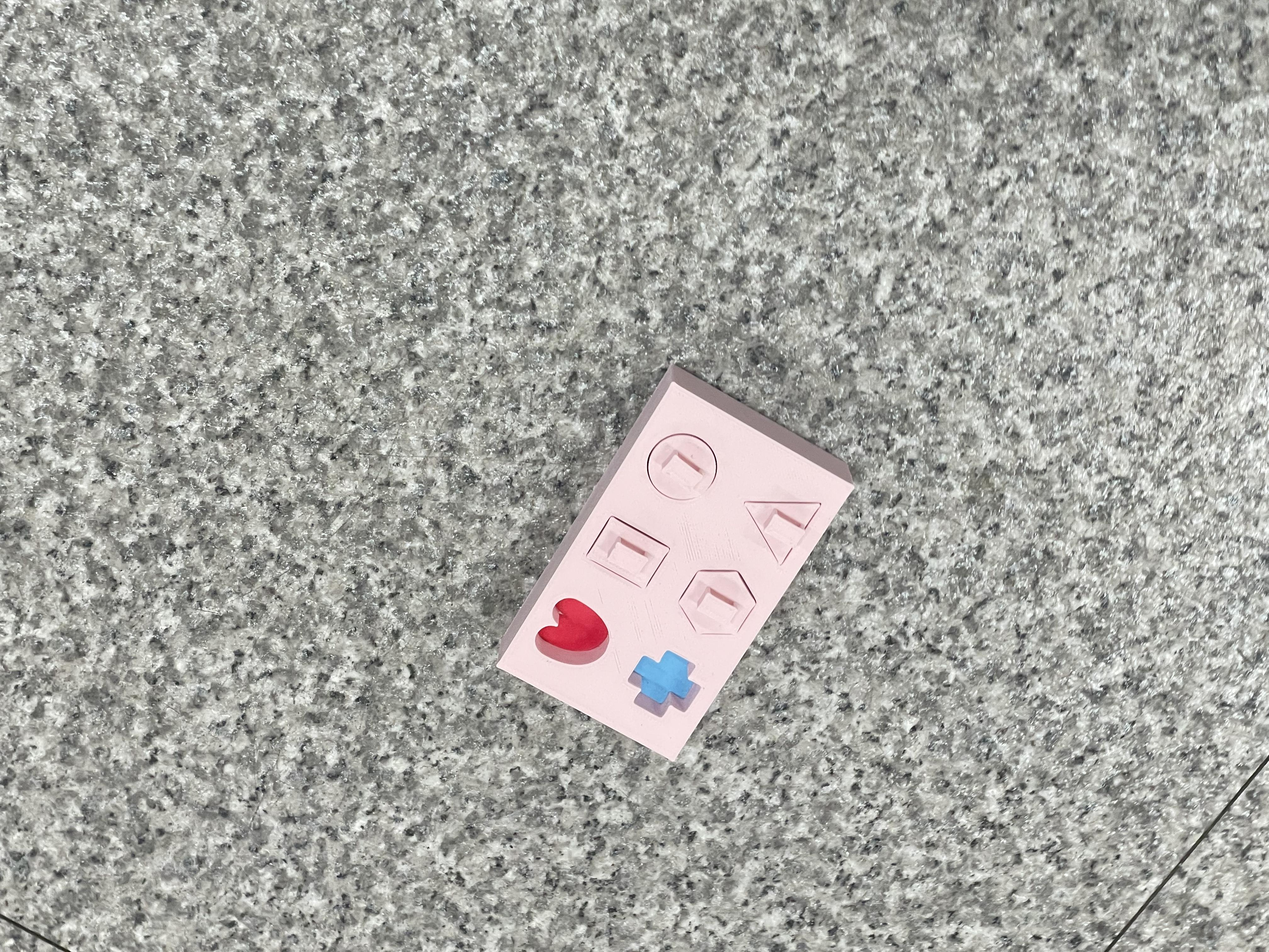unsolved: (486, 377, 866, 770)
